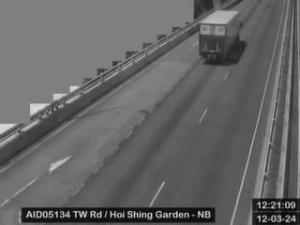truck: (198, 10, 244, 64)
